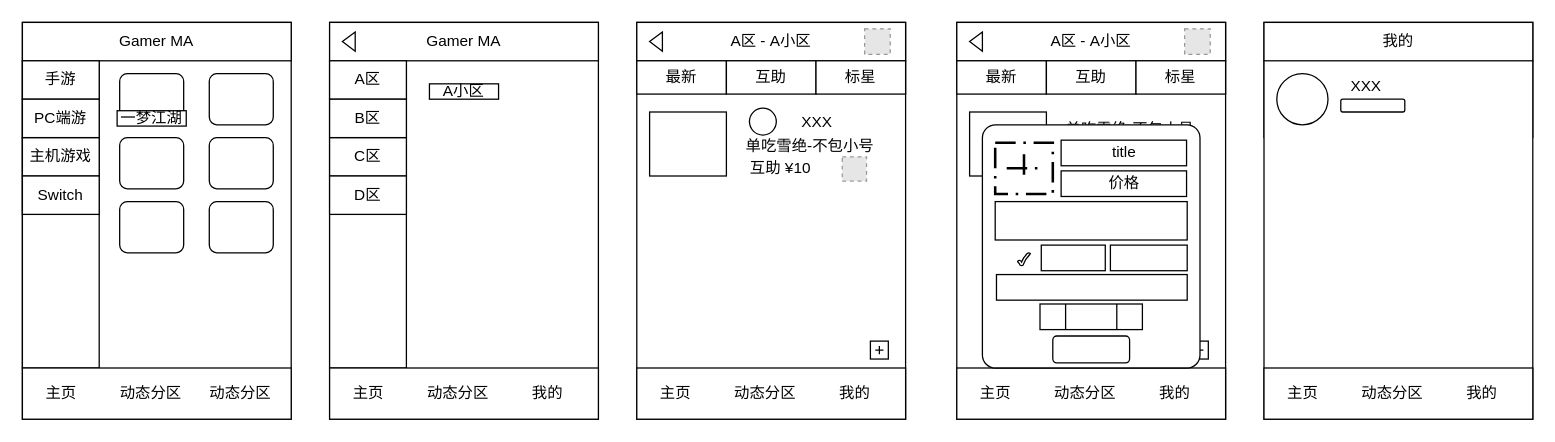
This 1555x442 diagram has some shape labels left out. Grey dashed boxes stand in for pictures. Here are the shapes that lost their labels. From the top down, the centre of each, then its label:
At pixel 1090 220: "desc".
At pixel 1072 257: "群担保".
At pixel 1148 257: "群昵称".
At pixel 1091 286: "qq".
At pixel 1091 349: "提交".
